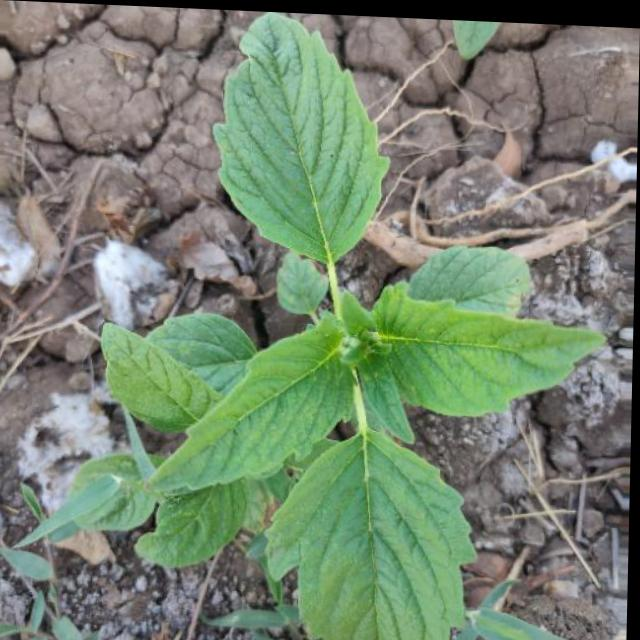crop: (135, 8, 616, 640)
